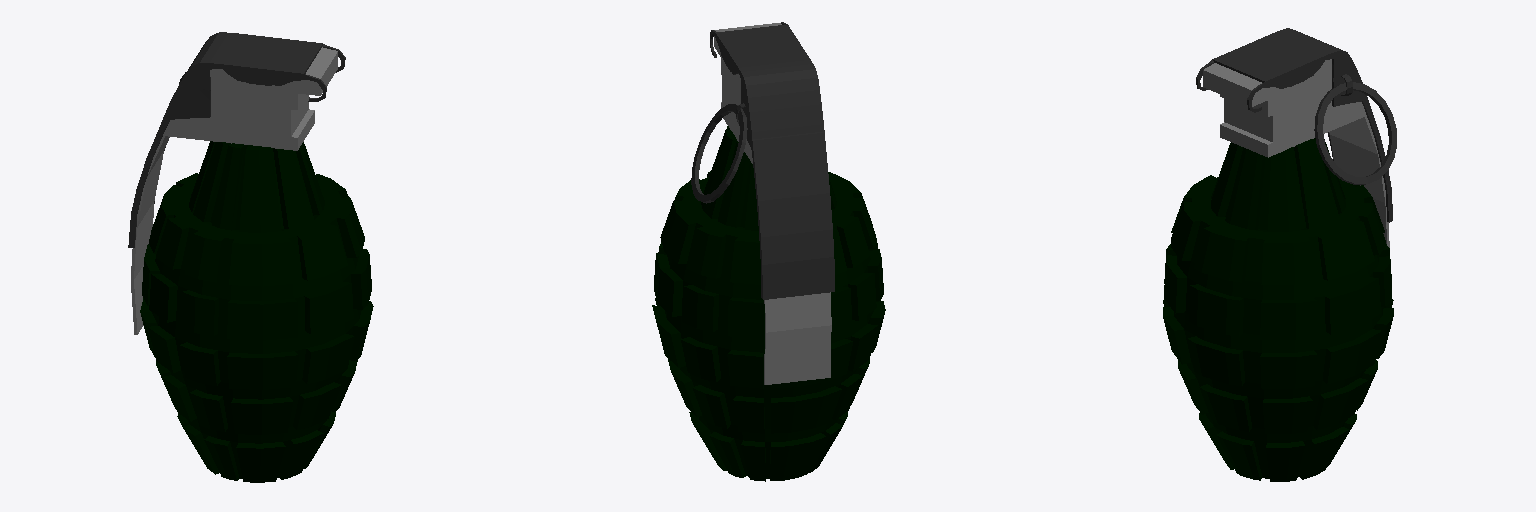
File: Grenade2.obj
The picture shows the model from 3 angles: view 1: azimuth 30°, elevation 25°; view 2: azimuth 150°, elevation 25°; view 3: azimuth 270°, elevation 25°; orthographic projection.
Visible parts, largest first — view 1: polySurface6; view 2: polySurface6; view 3: polySurface6.
Part boxes in pixels (x1,y1,x2,y2): polySurface6: (128, 32, 373, 482); polySurface6: (652, 22, 885, 481); polySurface6: (1163, 28, 1396, 481).
Bounding box in the file's own units: 0.2762 × 0.5377 × 0.2805.